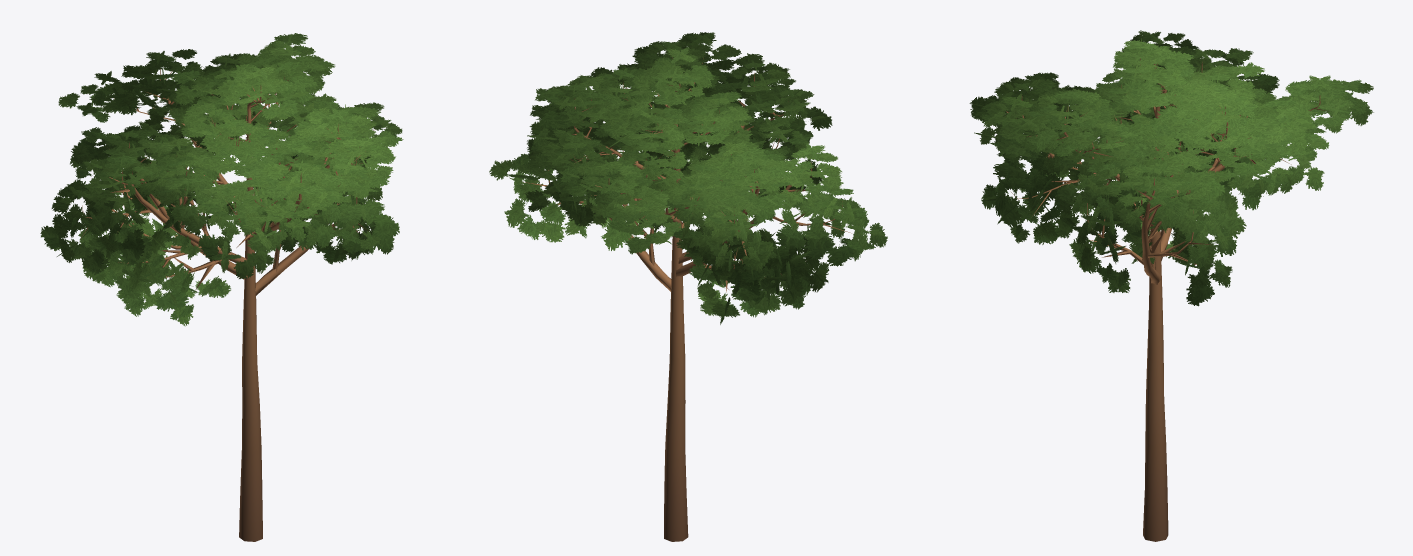
Rendered from pinonero-alto.glb.
The picture shows the model from 3 angles, left to right: view 1: azimuth 30°, elevation 25°; view 2: azimuth 150°, elevation 25°; view 3: azimuth 270°, elevation 25°; orthographic projection. The views are drawn at different scales.
Parts seen in each view (by area): view 1: pinonero; view 2: pinonero; view 3: pinonero.
Boxes of the visible parts, left/top/right/bottom form: pinonero: left=40, top=33, right=403, bottom=541; pinonero: left=489, top=32, right=887, bottom=541; pinonero: left=969, top=30, right=1373, bottom=541.
Size of the model in its own units: 12.08 by 14 by 11.57.
Materials: 2 (1 with a texture image).
